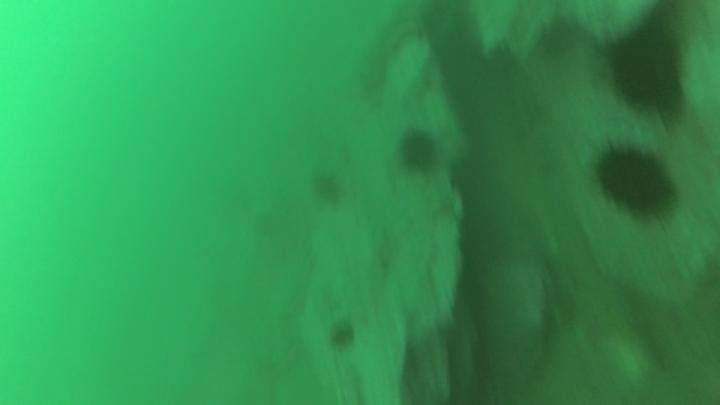echinus: (586, 135, 685, 226), (601, 27, 688, 122), (390, 121, 443, 176), (308, 168, 342, 209)
